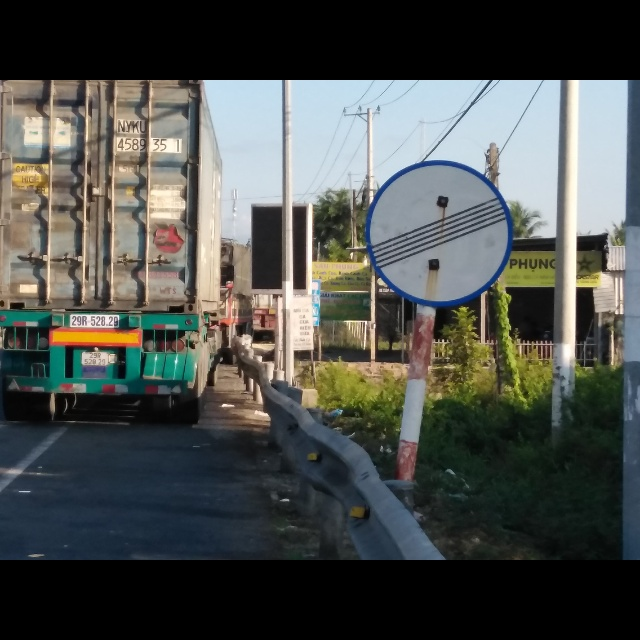Hết tất cả các lệnh cấm: (362, 157, 520, 308)
